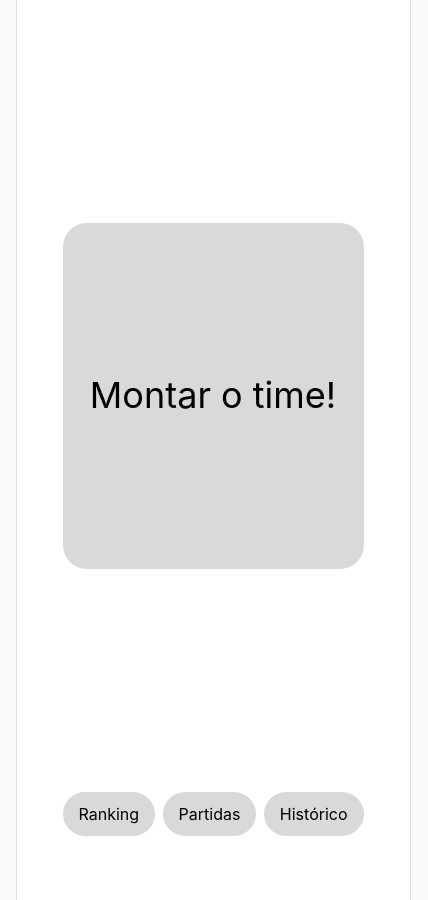
US1.1 — Navegação do app (cenários BDD) › AC1.1.2: Given Home, When toco em Ranking, Then vejo a tela de ranking
Step 1. Click the button with test id "home-ranking-button" → (109, 814), box [62, 792, 155, 836]
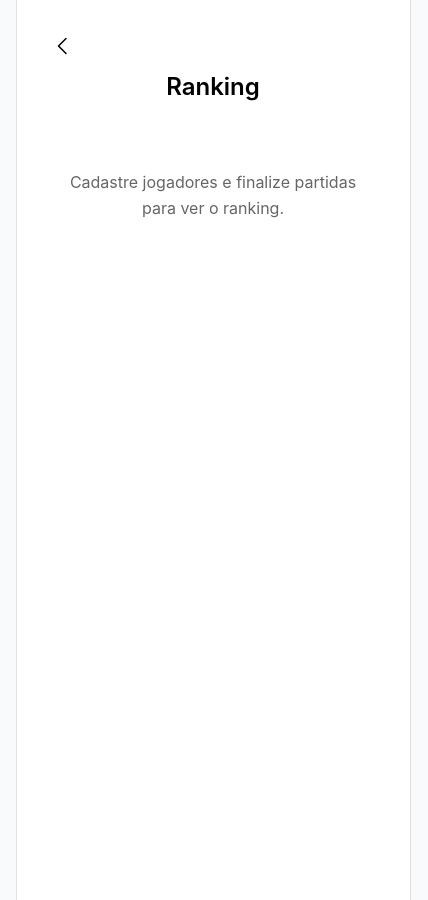
Result: the heading "Ranking" is shown at [166, 72, 260, 101]
Result: the text "Cadastre jogadores e finalize partidas para ver o ranking." is shown at [70, 172, 356, 218]
